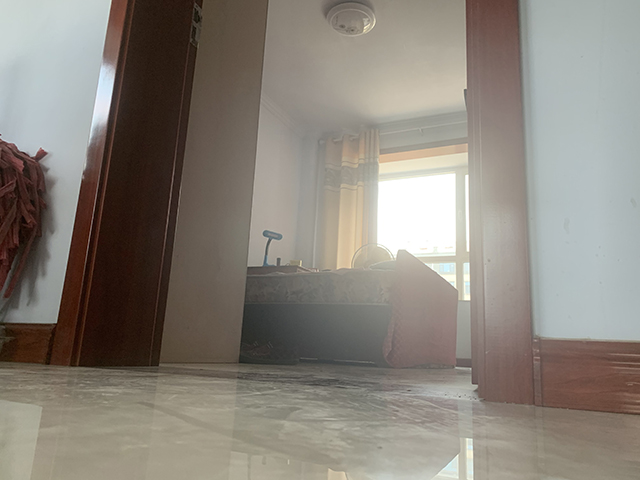bed: (240, 249, 460, 369)
